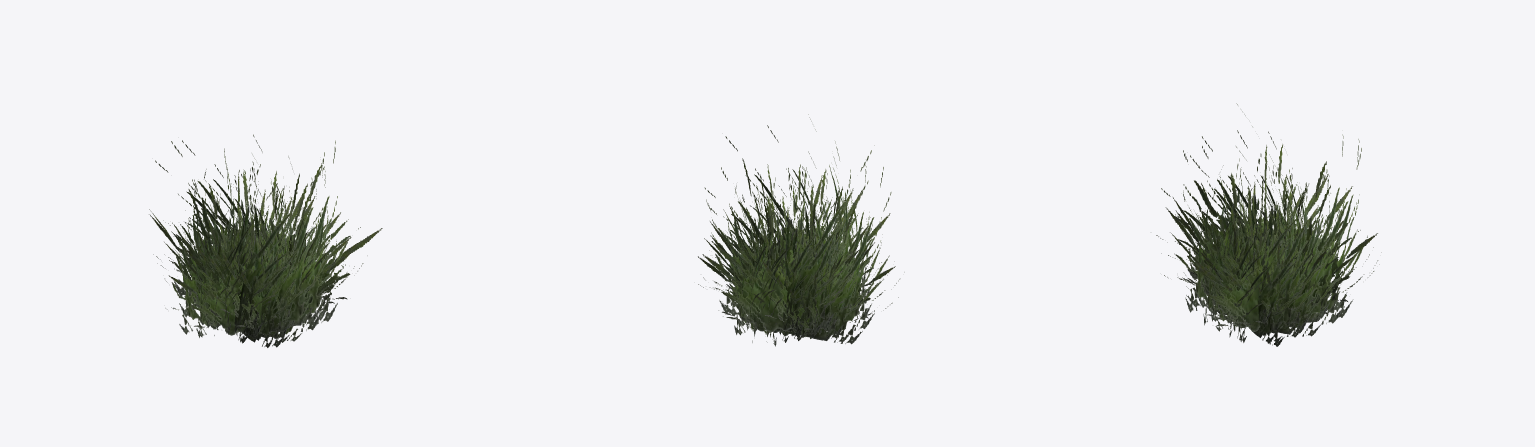
Rendered from grass (1).glb.
The picture shows the model from 3 angles, left to right: view 1: azimuth 30°, elevation 25°; view 2: azimuth 150°, elevation 25°; view 3: azimuth 270°, elevation 25°; orthographic projection. The views are drawn at different scales.
Bounding box in the file's own units: 235 × 150 × 231.
Materials: 1 (1 with a texture image).
